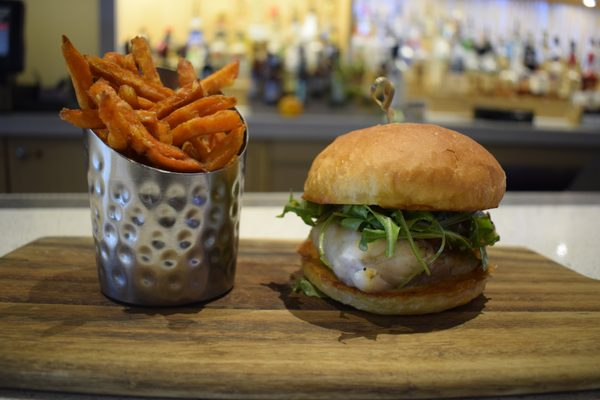pizza: (83, 122, 246, 309)
soup: (273, 121, 506, 315)
